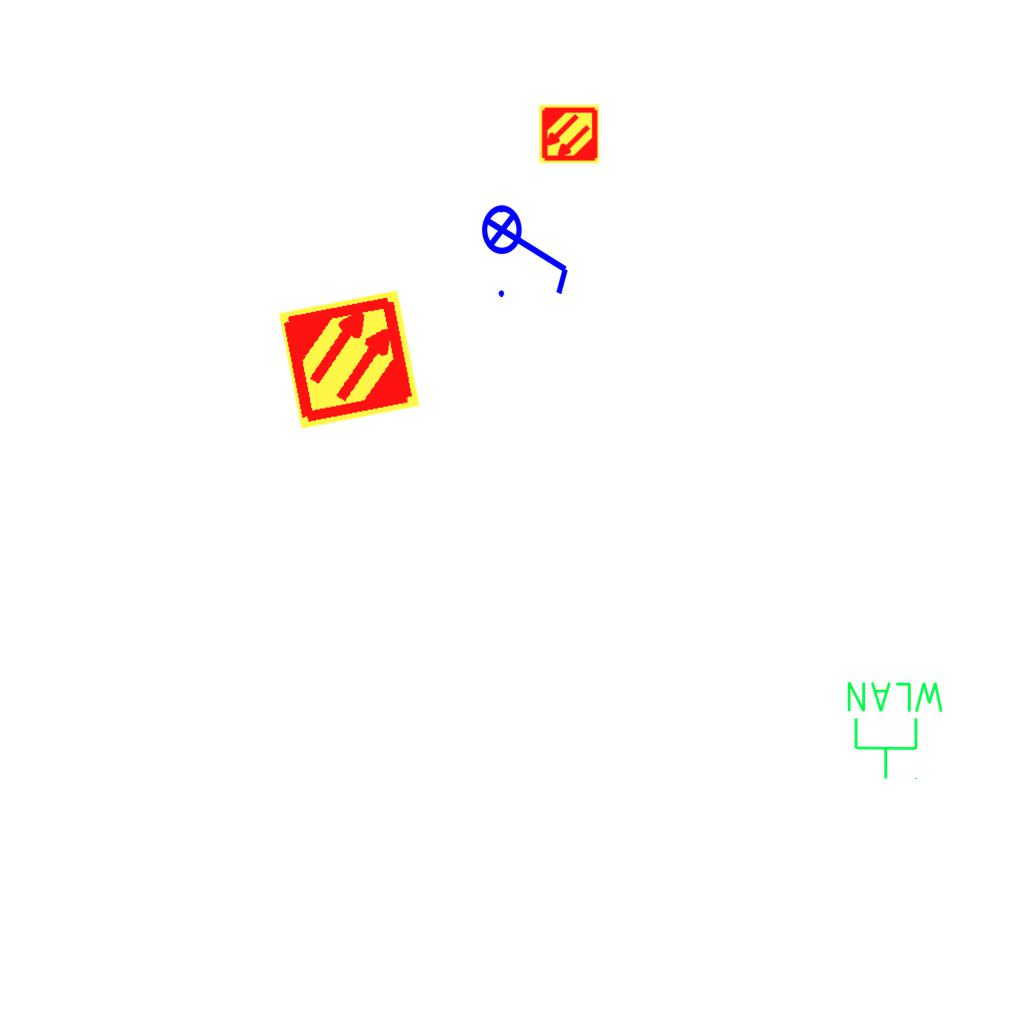ASR_Ansaugrauchmelder: (276, 286, 423, 433), (538, 103, 600, 165)
Ausschalter_beleuchtet: (480, 191, 576, 303)
WLAN: (843, 678, 948, 782)
